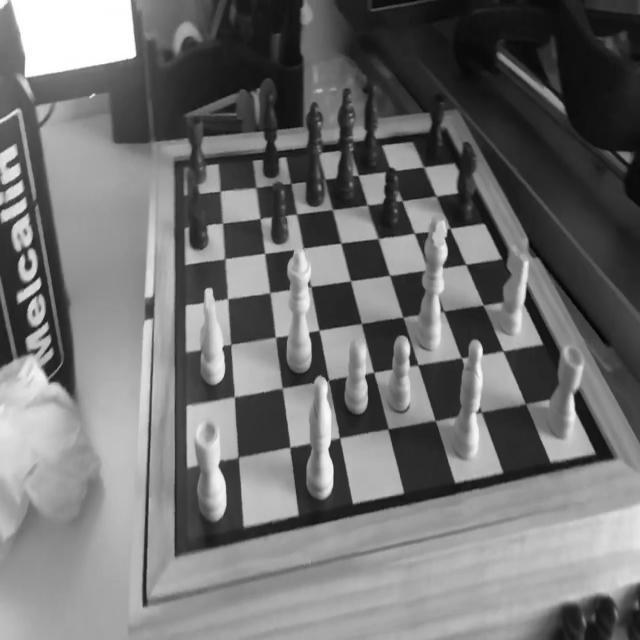chess-table-corners: (598, 443, 626, 473), (167, 538, 190, 570), (438, 118, 452, 139), (168, 146, 180, 170)
